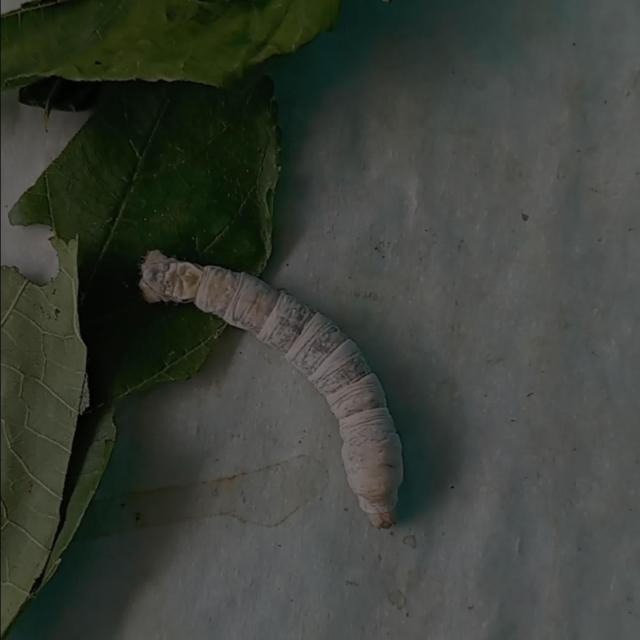Grasserie: (116, 237, 450, 546)
